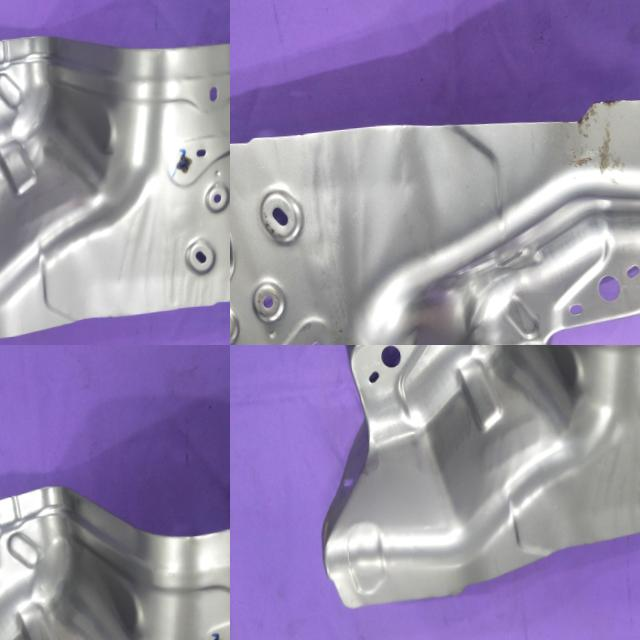Healthy: (299, 345, 640, 613), (0, 13, 230, 345), (0, 462, 230, 640)
